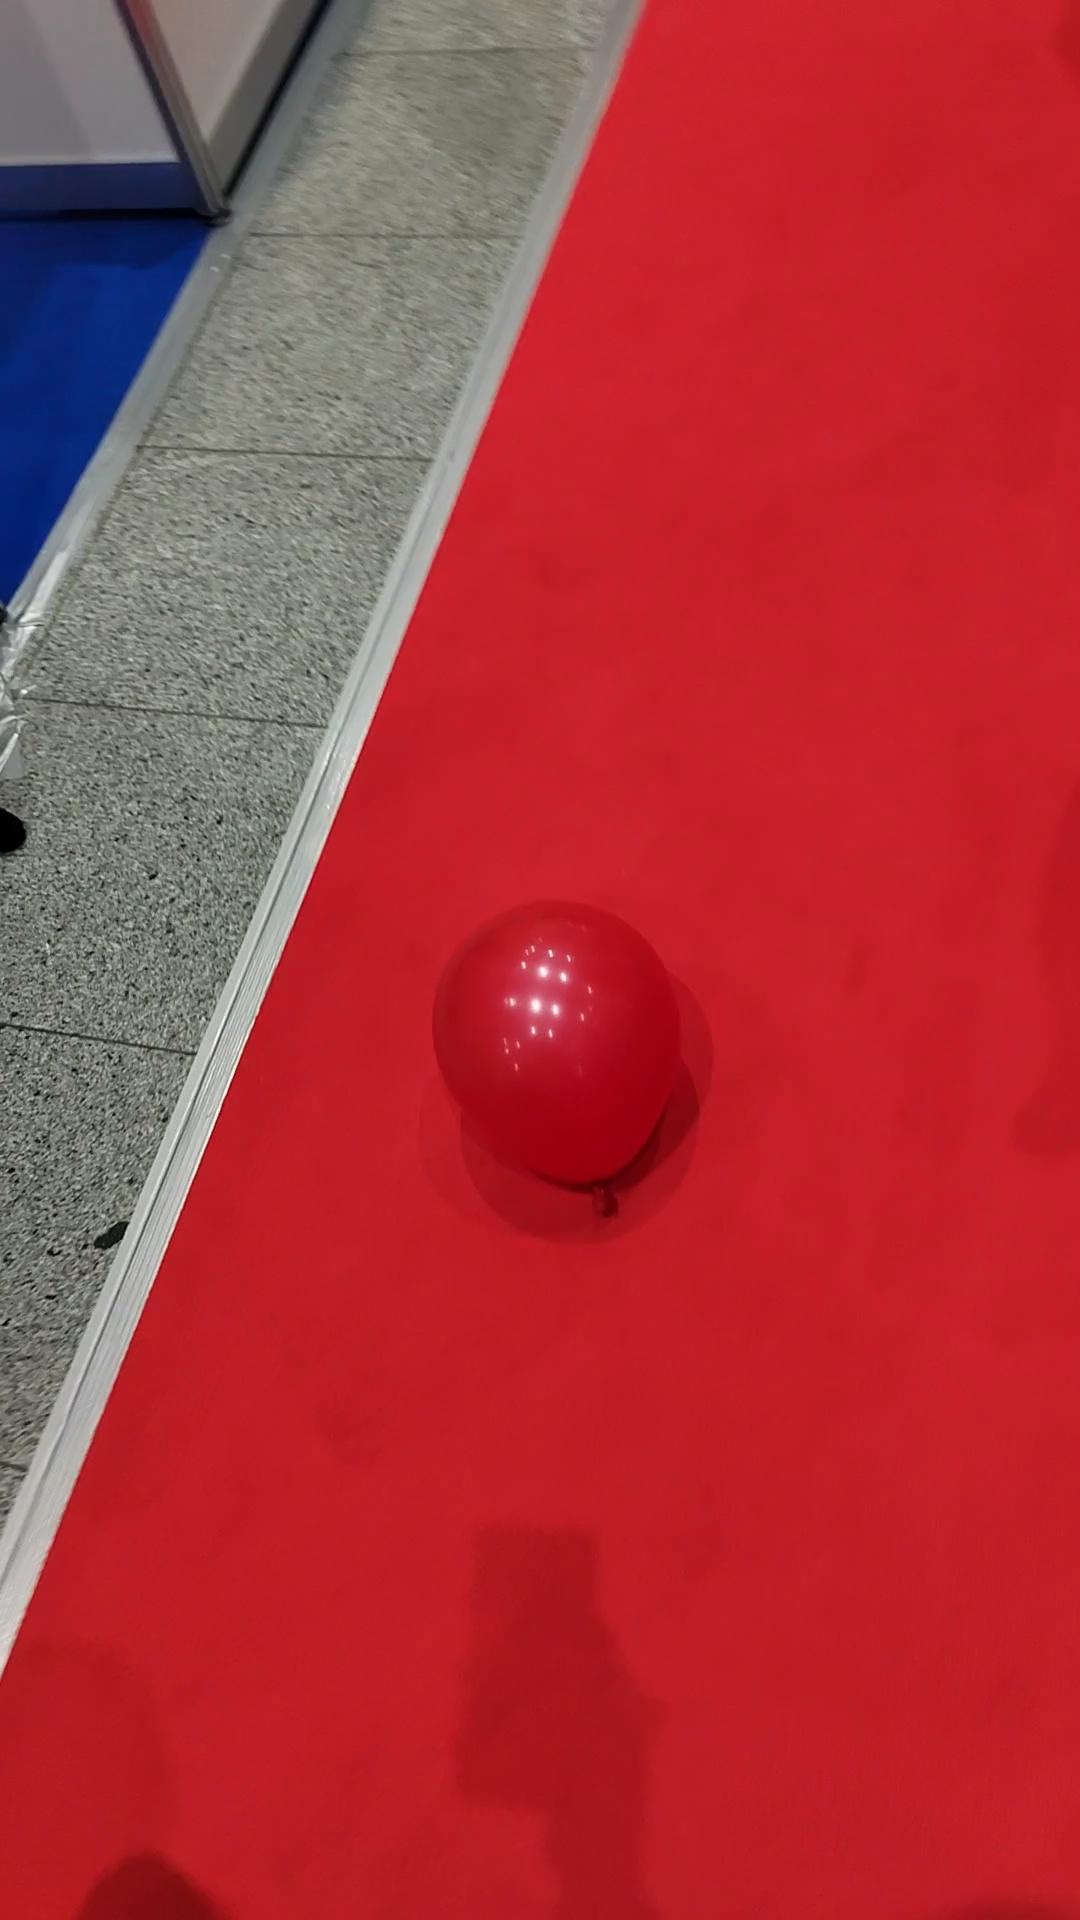red: (433, 901, 684, 1192)
